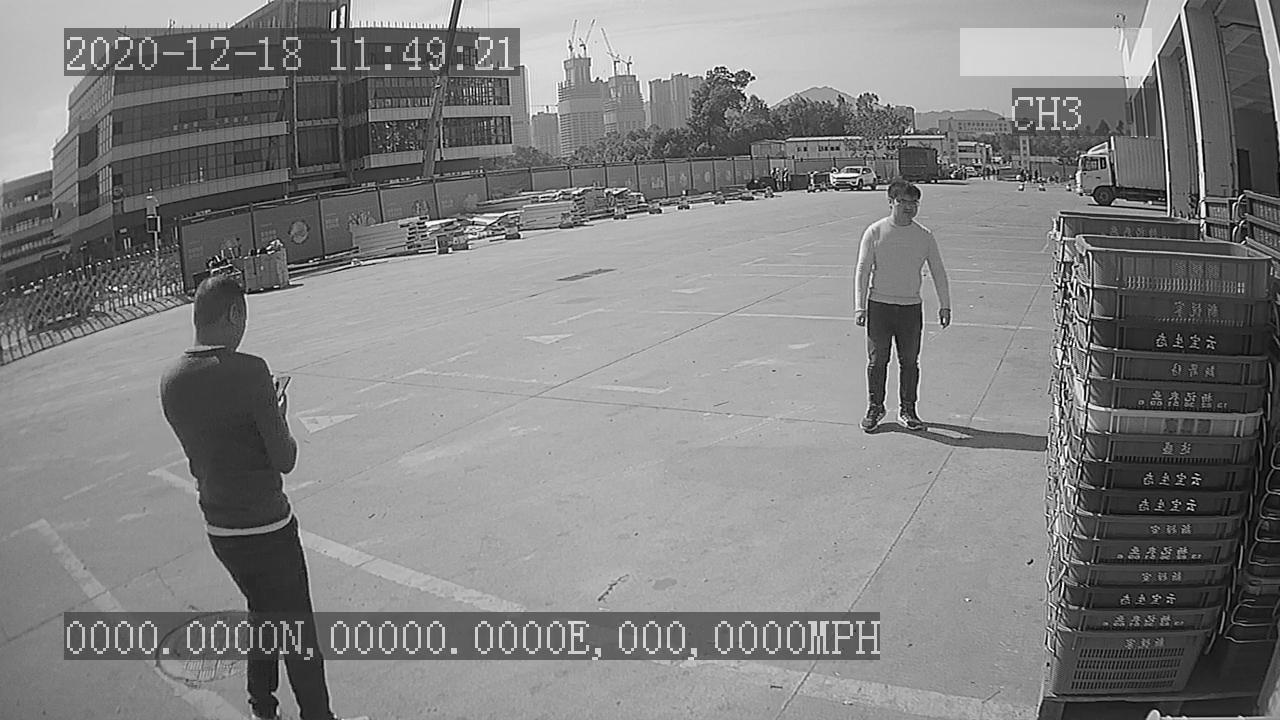person: (849, 179, 956, 436)
